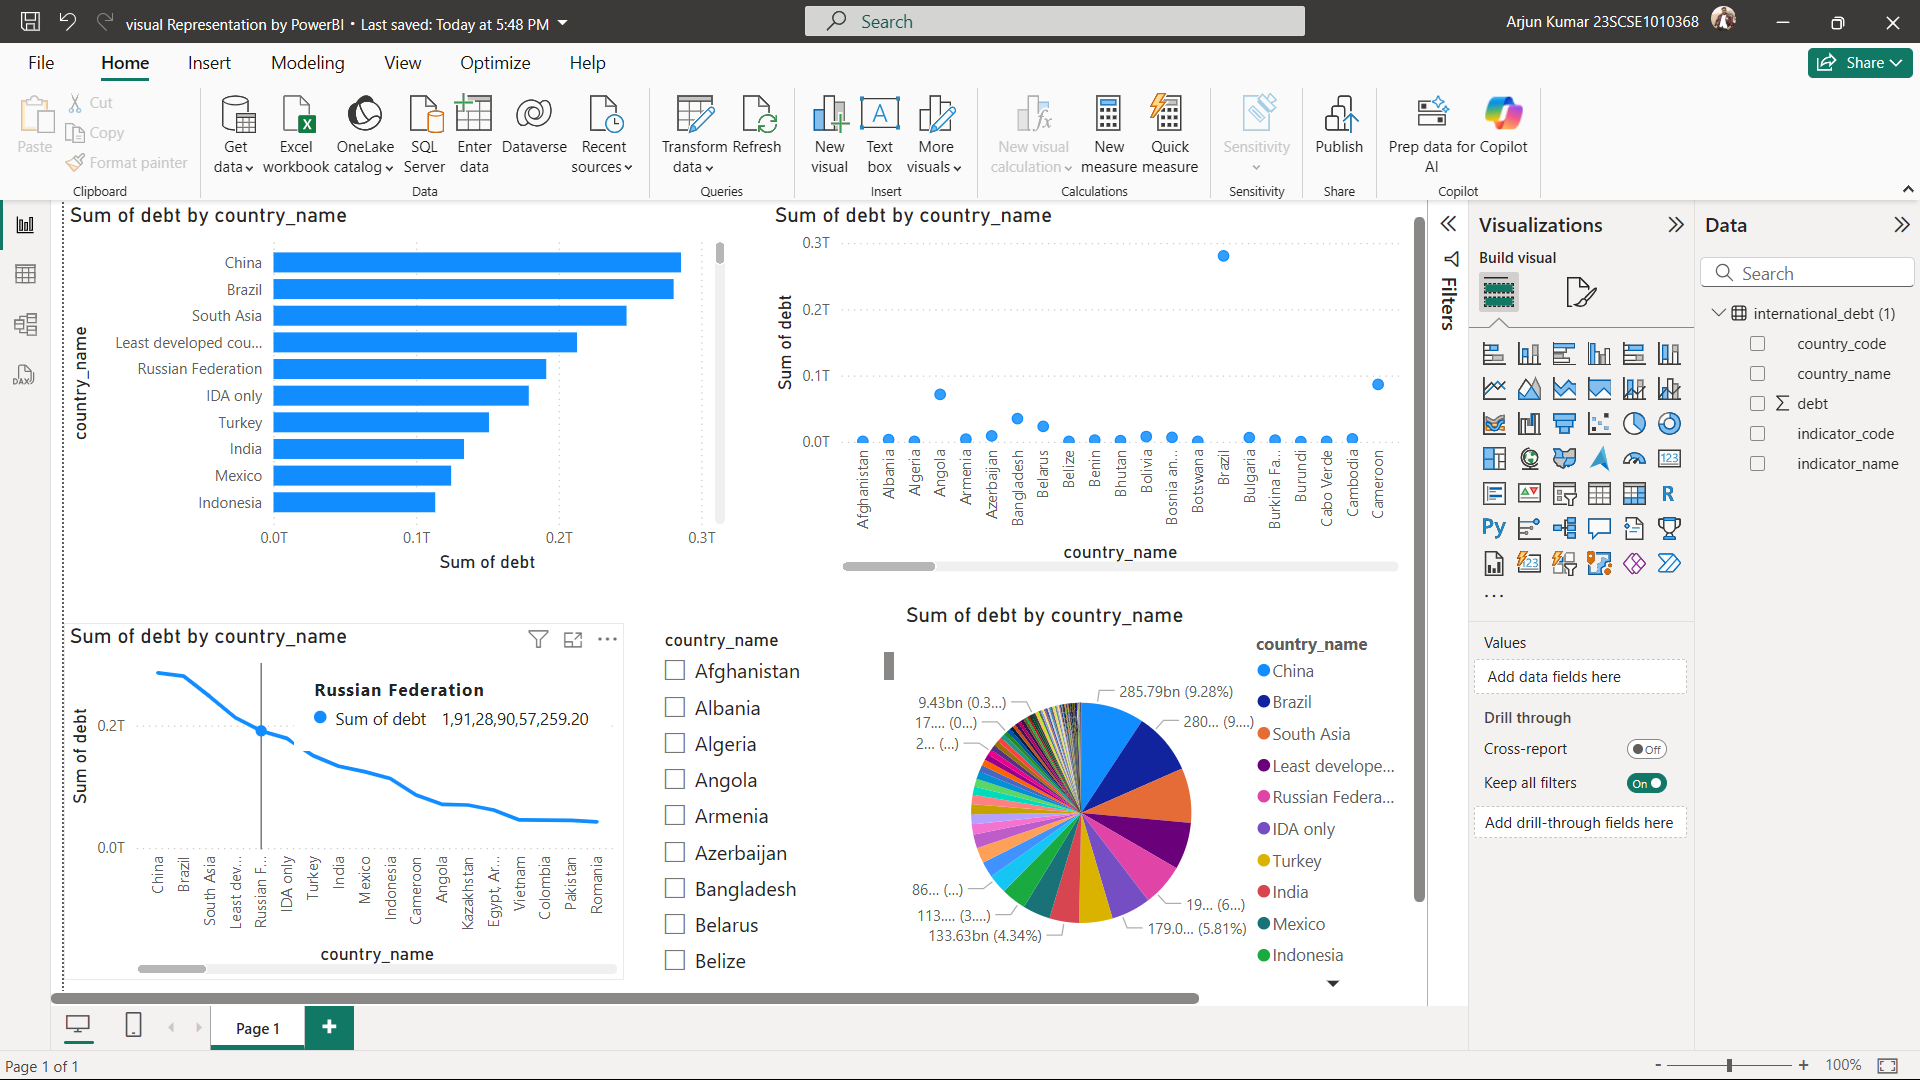

What the dashboard file says about the page in this screenshot:
{"tool":"powerbi","page":{"name":"Page 1","canvas":[1280,720],"ordinal":0},"visuals":[{"type":"clusteredBarChart","fields":{"Y":["Sum(international_debt (1).debt)"],"Category":["international_debt (1).country_name"]},"box":[30,6.7,646.7,341.1],"z":0},{"type":"lineChart","fields":{"Category":["international_debt (1).country_name"],"Y":["Sum(international_debt (1).debt)"]},"box":[13.3,373.3,626.7,330],"z":1},{"type":"scatterChart","fields":{"X":["international_debt (1).country_name"],"Y":["Sum(international_debt (1).debt)"]},"box":[690,6.7,558.9,351.1],"z":2},{"type":"pieChart","fields":{"Y":["Sum(international_debt (1).debt)"],"Category":["international_debt (1).country_name"]},"box":[701.1,373.3,547.8,330],"z":3}]}

Visuals, with their boxes on the page's 1280x720 design canvas (x1, y1, x2, y2). These are canvas units, not pixel positions in the 1920x1080 screenshot, which may show the page scaled, cropped or inside an application window:
clusteredBarChart - Sum(international_debt (1).debt) x international_debt (1).country_name: 30/7/677/348
lineChart - international_debt (1).country_name x Sum(international_debt (1).debt): 13/373/640/703
scatterChart - international_debt (1).country_name x Sum(international_debt (1).debt): 690/7/1249/358
pieChart - Sum(international_debt (1).debt) x international_debt (1).country_name: 701/373/1249/703
